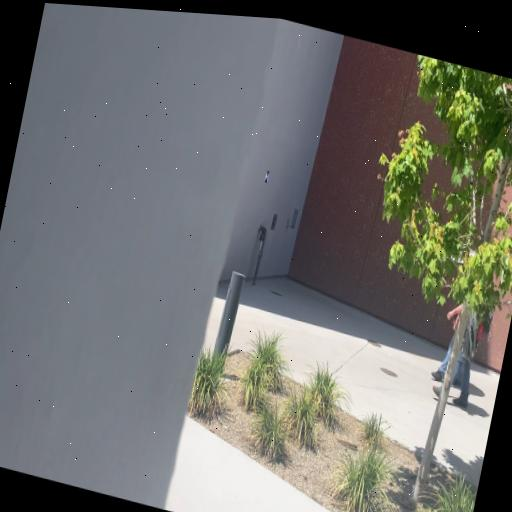target3: (264, 170, 270, 184)
